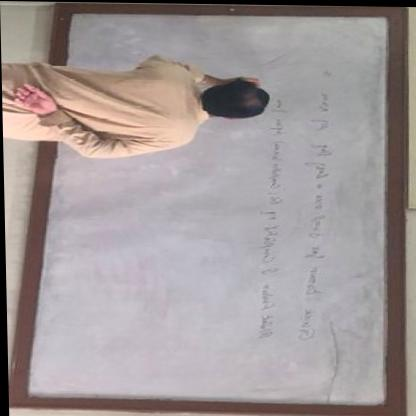Handwritten text: (281, 61, 346, 344), (237, 82, 293, 342)
Lecturer: (17, 52, 271, 163)
Whiteboard: (19, 7, 400, 412)
